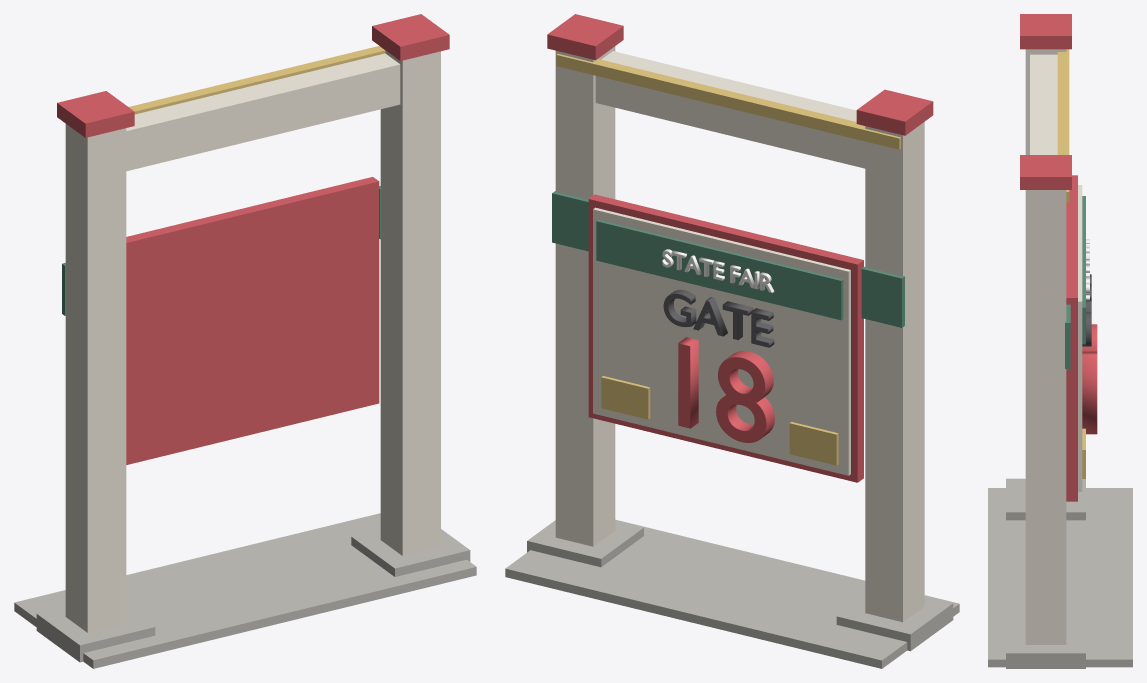
File: state-fair-gate-18.glb
3 renders of one model, left to right at view 1: azimuth 30°, elevation 25°; view 2: azimuth 150°, elevation 25°; view 3: azimuth 270°, elevation 25°, orthographic. The views are drawn at different scales.
Visible parts, largest first — view 1: SFG_SignBack, SFG_PostL, SFG_PostR, SFG_Pad, SFG_HeaderBeam, SFG_FootingL, SFG_FootingR, SFG_PostCapL, SFG_PostCapR, SFG_HeaderAccent; view 2: SFG_SignFace, SFG_PostL, SFG_Pad, SFG_PostR, SFG_HeaderBeam, SFG_Ribbon, SFG_SignBack, SFG_GateNumber, SFG_HeaderAccent, SFG_FootingL, SFG_GateLabel, SFG_FootingR (+7 smaller); view 3: SFG_PostR, SFG_Pad, SFG_SignBack, SFG_FootingR, SFG_HeaderBeam, SFG_PostCapL, SFG_PostCapR, SFG_GateNumber, SFG_SignFace, SFG_HeaderAccent, SFG_FootingL, SFG_PostL (+4 smaller).
Boxes of the visible parts, bbox=[...] form: SFG_SignBack: bbox=[126, 177, 379, 464]; SFG_PostL: bbox=[65, 124, 126, 632]; SFG_PostR: bbox=[380, 47, 440, 555]; SFG_Pad: bbox=[14, 513, 476, 668]; SFG_HeaderBeam: bbox=[126, 53, 400, 171]; SFG_FootingL: bbox=[36, 606, 155, 662]; SFG_FootingR: bbox=[351, 529, 470, 576]; SFG_PostCapL: bbox=[57, 91, 134, 137]; SFG_PostCapR: bbox=[372, 14, 449, 60]; SFG_HeaderAccent: bbox=[129, 46, 385, 114]; SFG_SignFace: bbox=[593, 207, 850, 475]; SFG_PostL: bbox=[865, 122, 924, 622]; SFG_Pad: bbox=[505, 519, 959, 668]; SFG_PostR: bbox=[555, 46, 615, 546]; SFG_HeaderBeam: bbox=[595, 51, 865, 168]; SFG_Ribbon: bbox=[596, 220, 843, 320]; SFG_SignBack: bbox=[588, 194, 863, 482]; SFG_GateNumber: bbox=[678, 337, 774, 442]; SFG_HeaderAccent: bbox=[556, 54, 900, 149]; SFG_FootingL: bbox=[836, 596, 953, 651]; SFG_GateLabel: bbox=[663, 289, 774, 347]; SFG_FootingR: bbox=[527, 520, 643, 567]; SFG_PostR: bbox=[1025, 190, 1066, 644]; SFG_Pad: bbox=[988, 488, 1132, 667]; SFG_SignBack: bbox=[1066, 175, 1077, 501]; SFG_FootingR: bbox=[1006, 619, 1085, 668]; SFG_HeaderBeam: bbox=[1030, 54, 1057, 154]; SFG_PostCapL: bbox=[1020, 14, 1071, 49]; SFG_PostCapR: bbox=[1020, 155, 1071, 189]; SFG_GateNumber: bbox=[1082, 324, 1097, 434]; SFG_SignFace: bbox=[1078, 185, 1082, 491]; SFG_HeaderAccent: bbox=[1057, 49, 1069, 202]; SFG_FootingL: bbox=[1006, 478, 1085, 520]; SFG_PostL: bbox=[1025, 49, 1066, 154].
Size of the model in its own units: 2.85 by 3.7 by 1.
